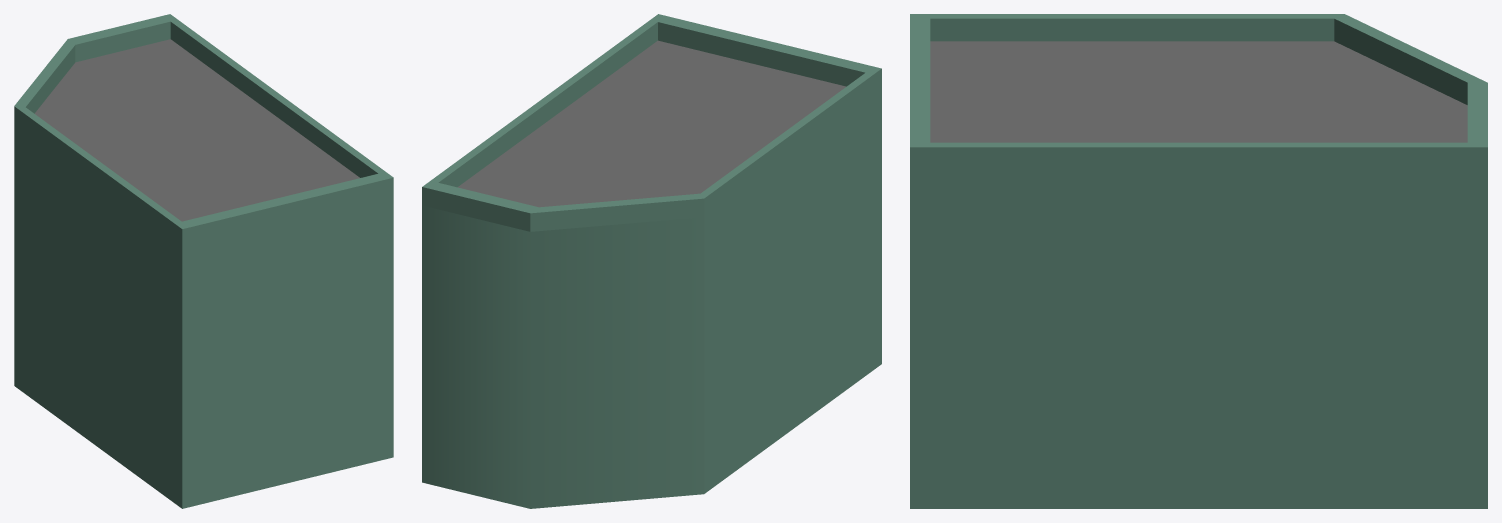
File: building2.fbx
The picture shows the model from 3 angles, left to right: view 1: azimuth 30°, elevation 25°; view 2: azimuth 150°, elevation 25°; view 3: azimuth 270°, elevation 25°; orthographic projection. The views are drawn at different scales.
Parts seen in each view (by area): view 1: building3; view 2: building3; view 3: building3.
Boxes of the visible parts, x1=… form: building3: x1=14, y1=14, x2=393, y2=508; building3: x1=422, y1=14, x2=881, y2=508; building3: x1=910, y1=14, x2=1487, y2=508.
Size of the model in its own units: 1269 by 1603 by 2323.
